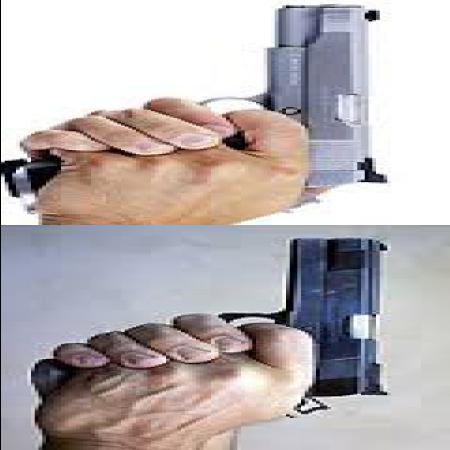Pistol: (7, 3, 405, 198), (38, 240, 416, 414)
